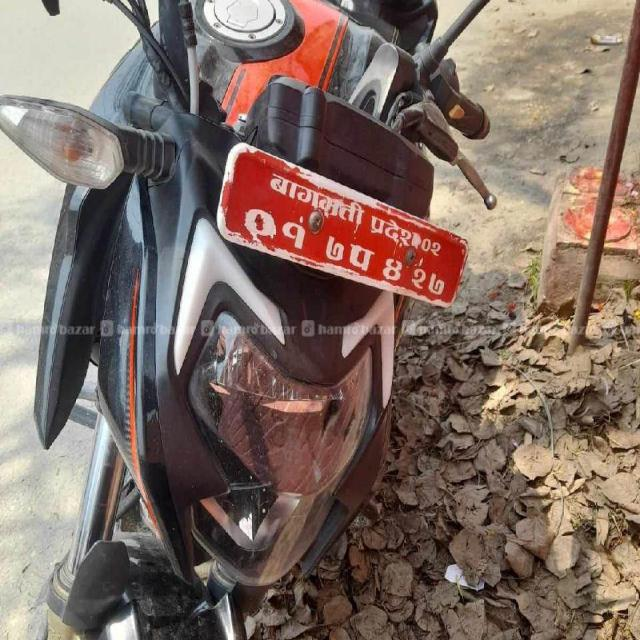License-plate: (219, 135, 472, 322)
